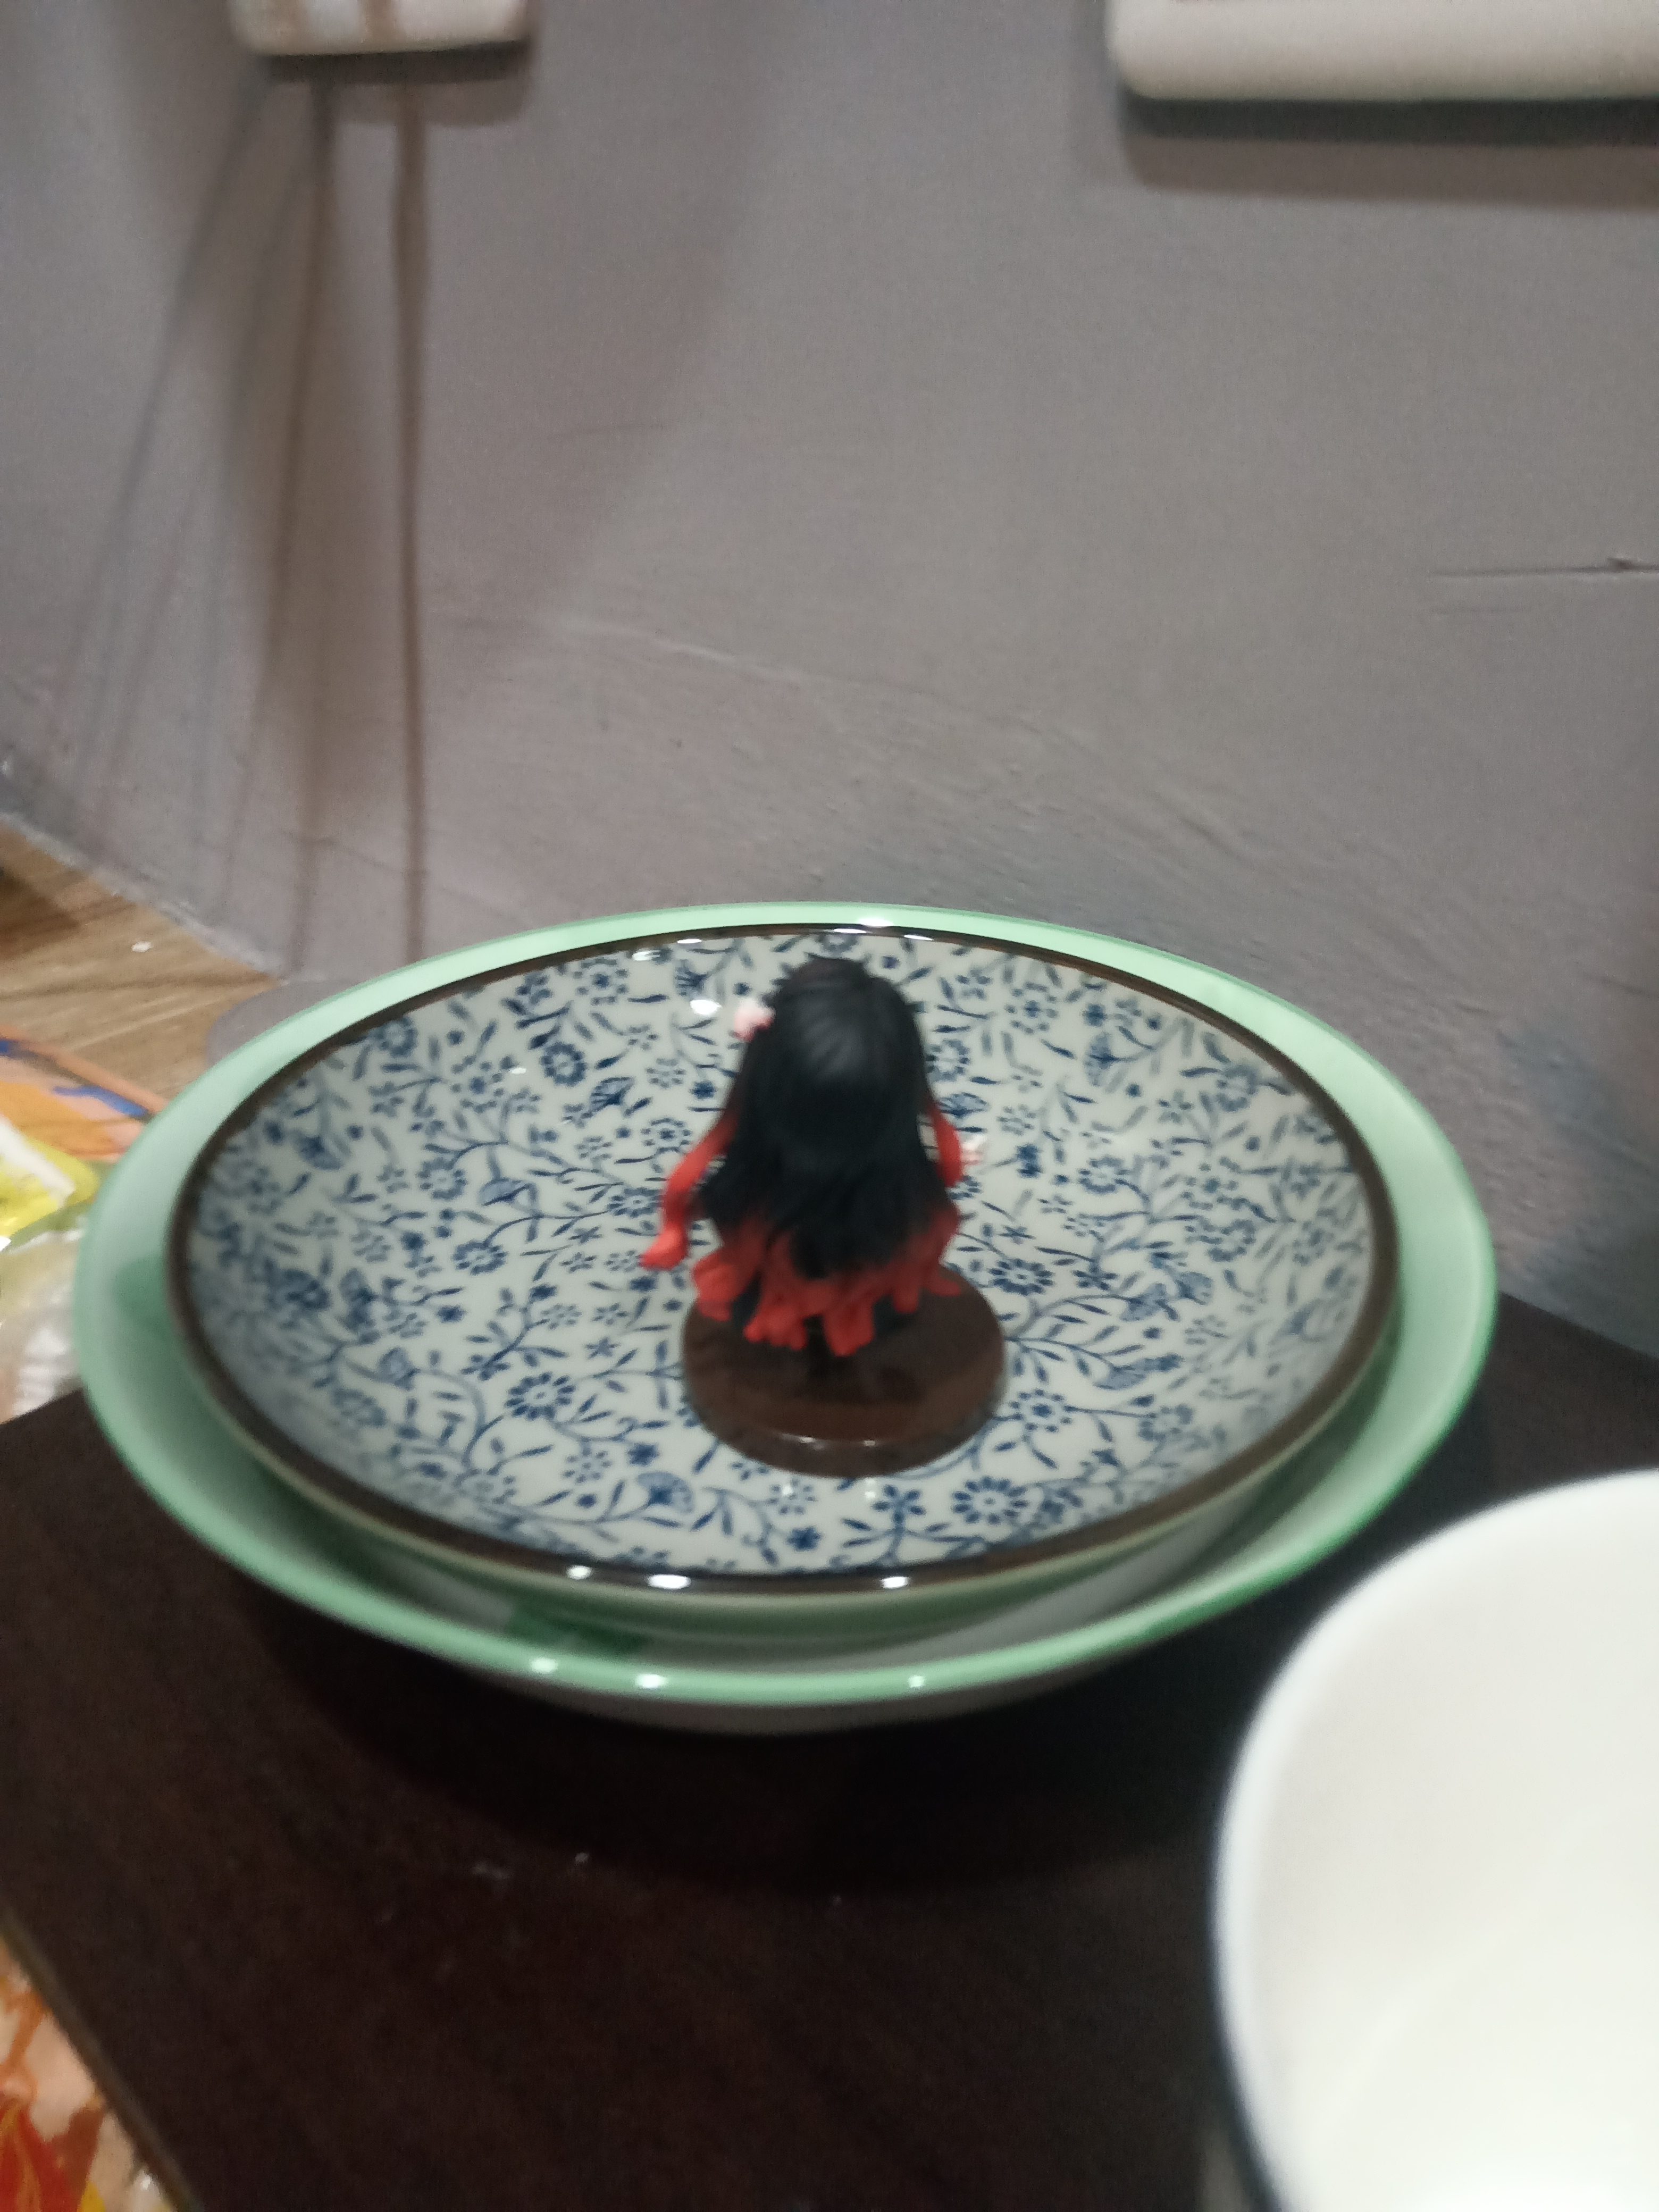Nezuko: (634, 939, 1033, 1494)
